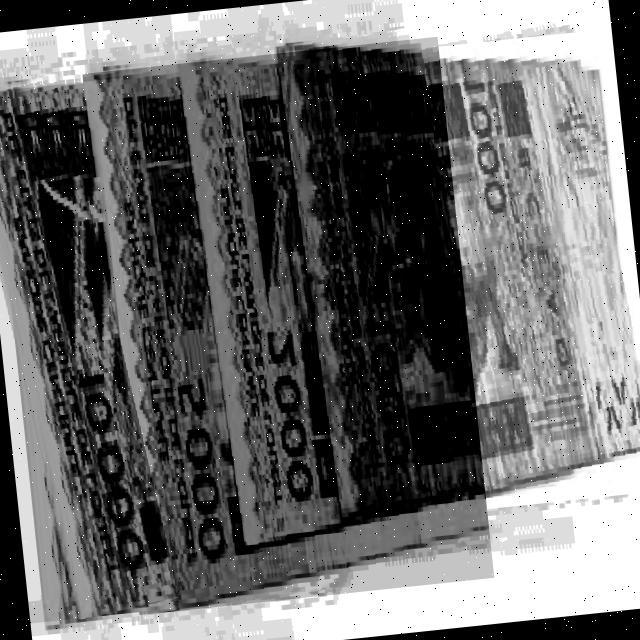junni: (83, 72, 488, 611)
niaar junni: (0, 92, 175, 617)
niaar teemeer: (271, 62, 640, 522)
nient teemeer: (158, 66, 363, 537)
